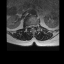CCS_normal: (31, 23, 33, 30)
LFS_normal: (34, 23, 36, 28)
LLS_normal: (33, 23, 35, 29)
RFS_normal: (28, 23, 29, 29)
RLS_normal: (29, 23, 31, 29)
